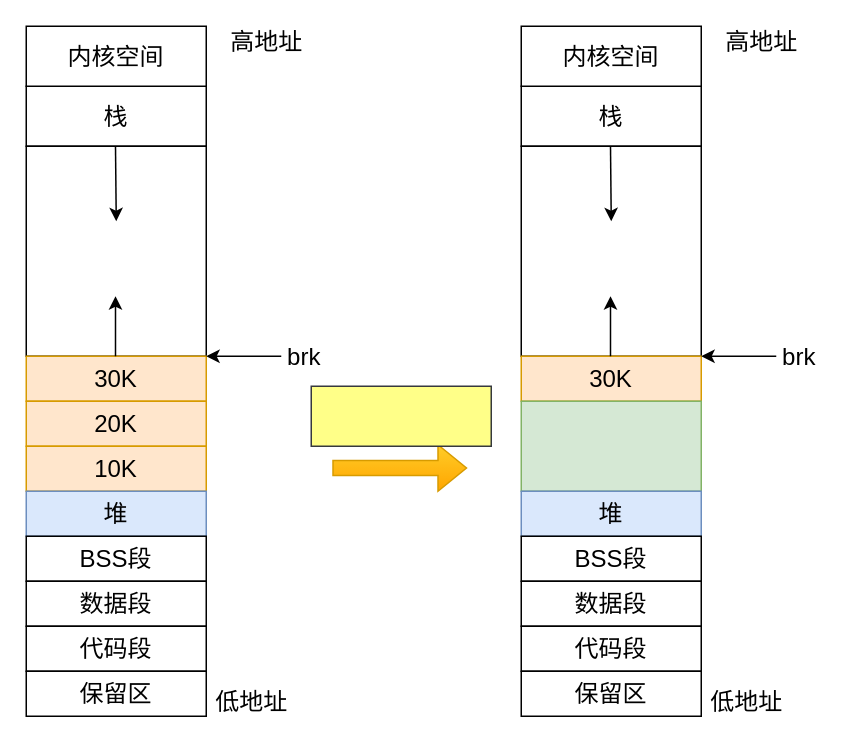
Some shapes in this 855 by 743 pixel diagram are drawn without their labels. The shapes that lost their labels are listed below. From the top down, each one's centre as x and y in pixels, then its label:
(x=400, y=415): 释放10K、20K 两片内存
(x=610, y=445): 空闲内存空间 30 K
